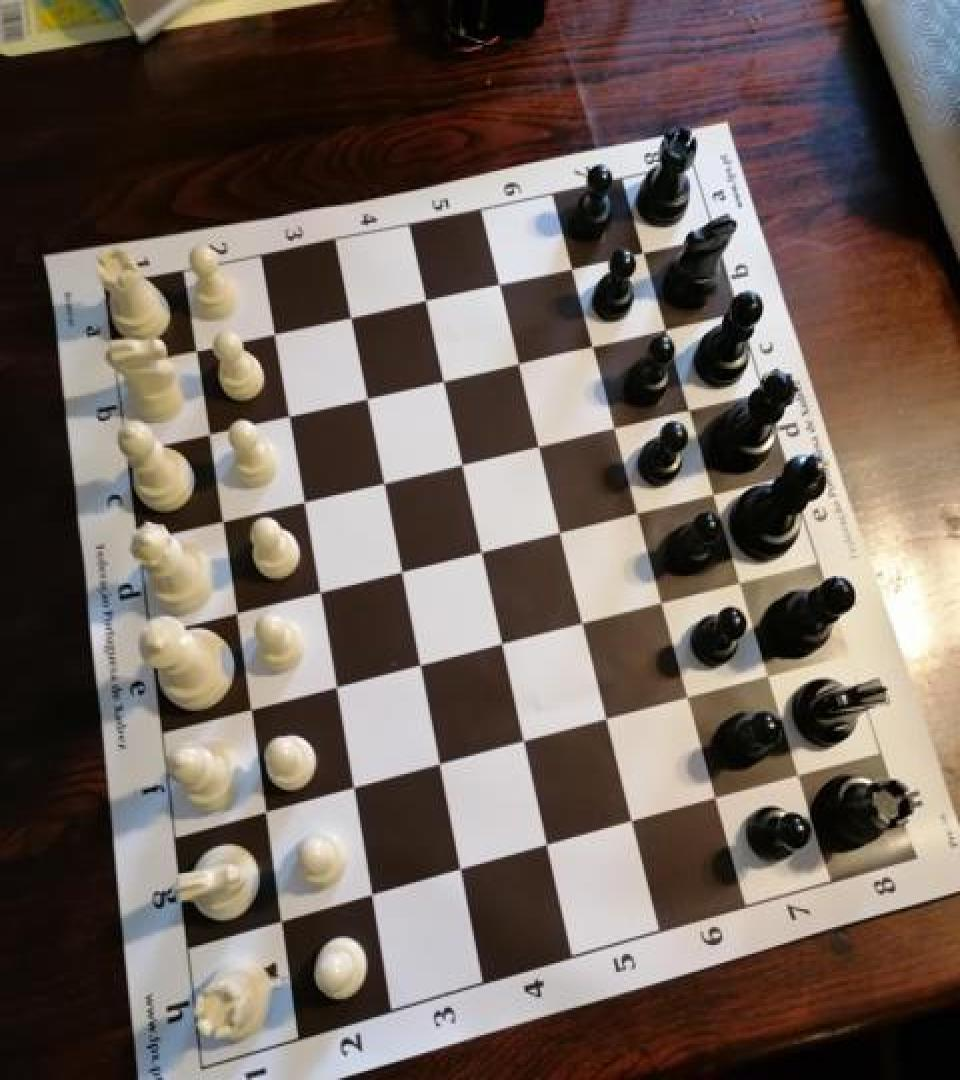xcorner: (629, 237, 659, 271), (557, 253, 587, 287), (484, 269, 514, 303), (409, 284, 439, 318), (257, 318, 287, 352), (179, 335, 209, 369), (652, 314, 682, 348), (579, 330, 609, 364), (504, 348, 534, 382), (428, 366, 458, 400), (350, 382, 380, 416), (272, 400, 302, 434), (191, 418, 221, 452), (677, 395, 707, 429), (601, 413, 631, 447), (525, 431, 555, 465), (447, 450, 477, 484), (368, 468, 398, 502), (287, 487, 317, 521), (205, 506, 235, 540), (702, 480, 732, 514), (625, 500, 655, 534), (547, 518, 577, 552), (467, 538, 497, 572), (386, 558, 416, 592), (303, 578, 333, 612), (219, 600, 249, 634), (729, 569, 759, 603), (650, 590, 680, 624), (570, 611, 600, 645), (488, 631, 518, 665), (321, 675, 351, 709), (234, 696, 264, 730), (676, 685, 706, 719), (511, 730, 541, 764), (426, 752, 456, 786), (339, 776, 369, 810), (250, 800, 280, 834), (787, 762, 817, 796), (704, 786, 734, 820), (620, 810, 650, 844), (534, 834, 564, 868), (447, 858, 477, 892), (358, 883, 388, 917), (267, 909, 297, 943), (334, 302, 364, 335), (405, 653, 435, 686), (757, 664, 787, 697), (594, 708, 624, 741)
